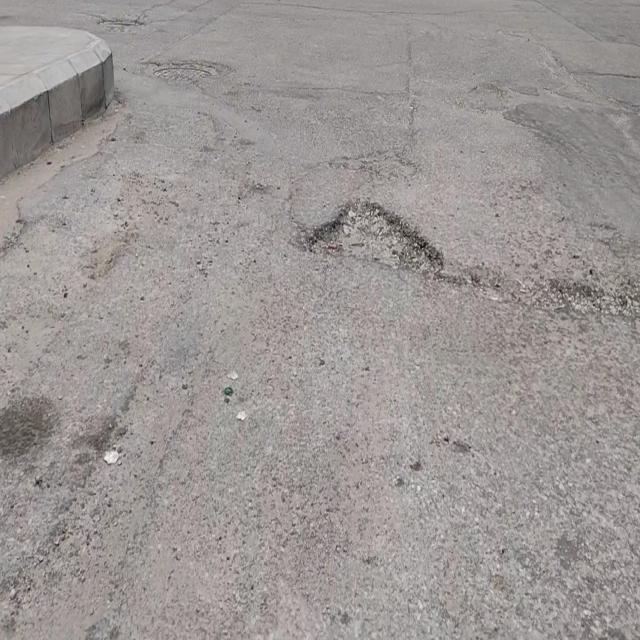Potholes: (299, 194, 443, 288)
